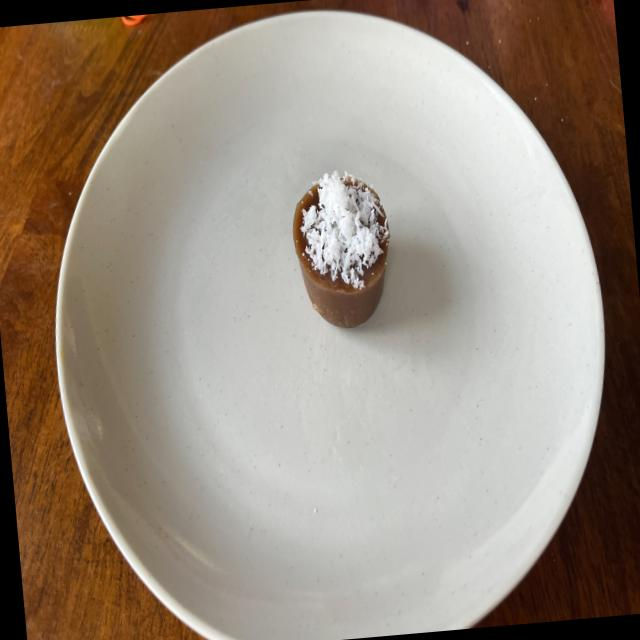Kuih lompang: (292, 169, 389, 327)
